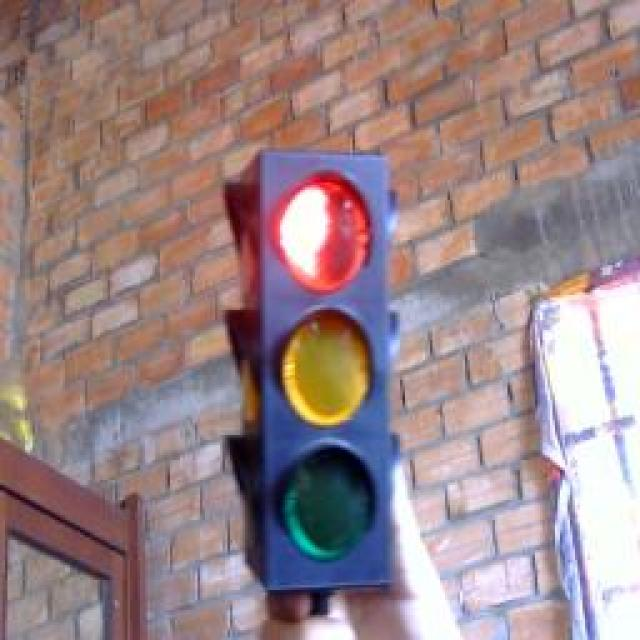-: (270, 150, 375, 300)
